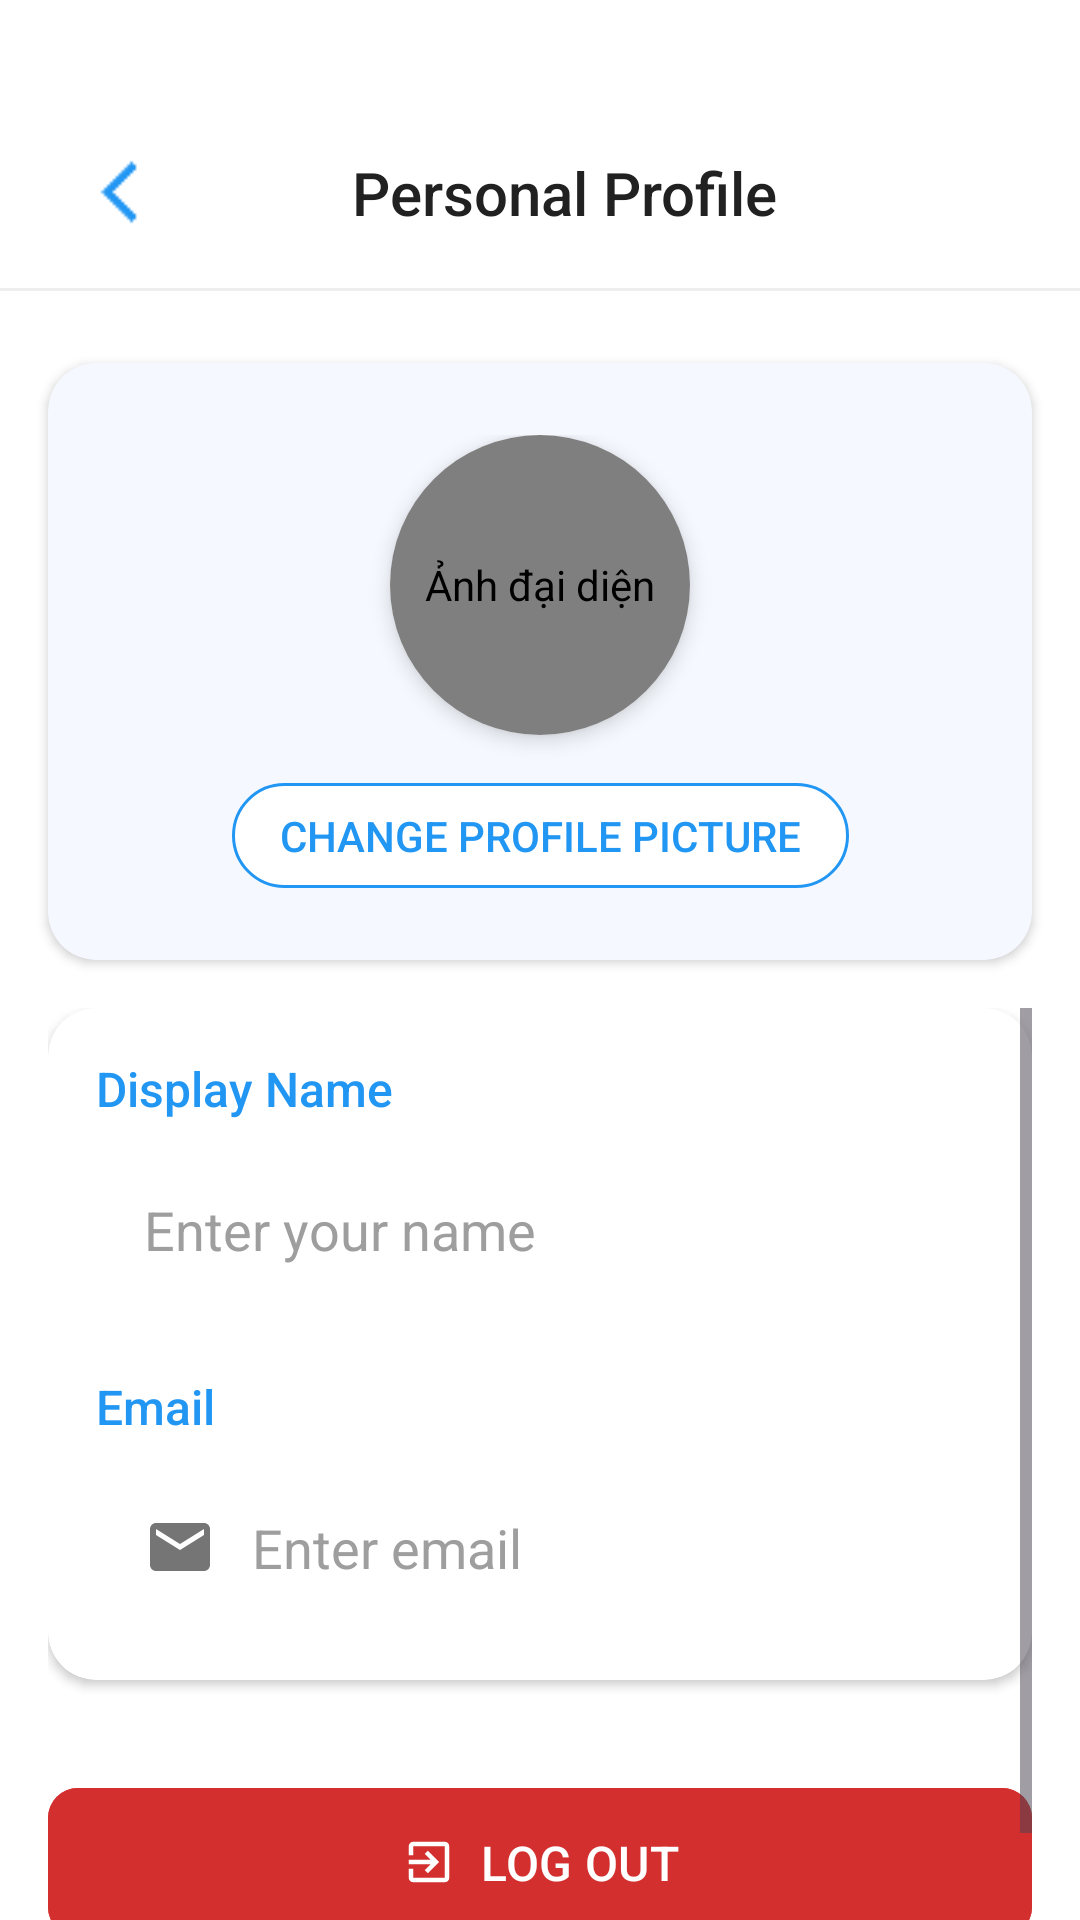

Where icons sit on this 1080px×1920px app screen, as (x1, y1, x2, y2):
Quay lại: (100, 161, 137, 223)
